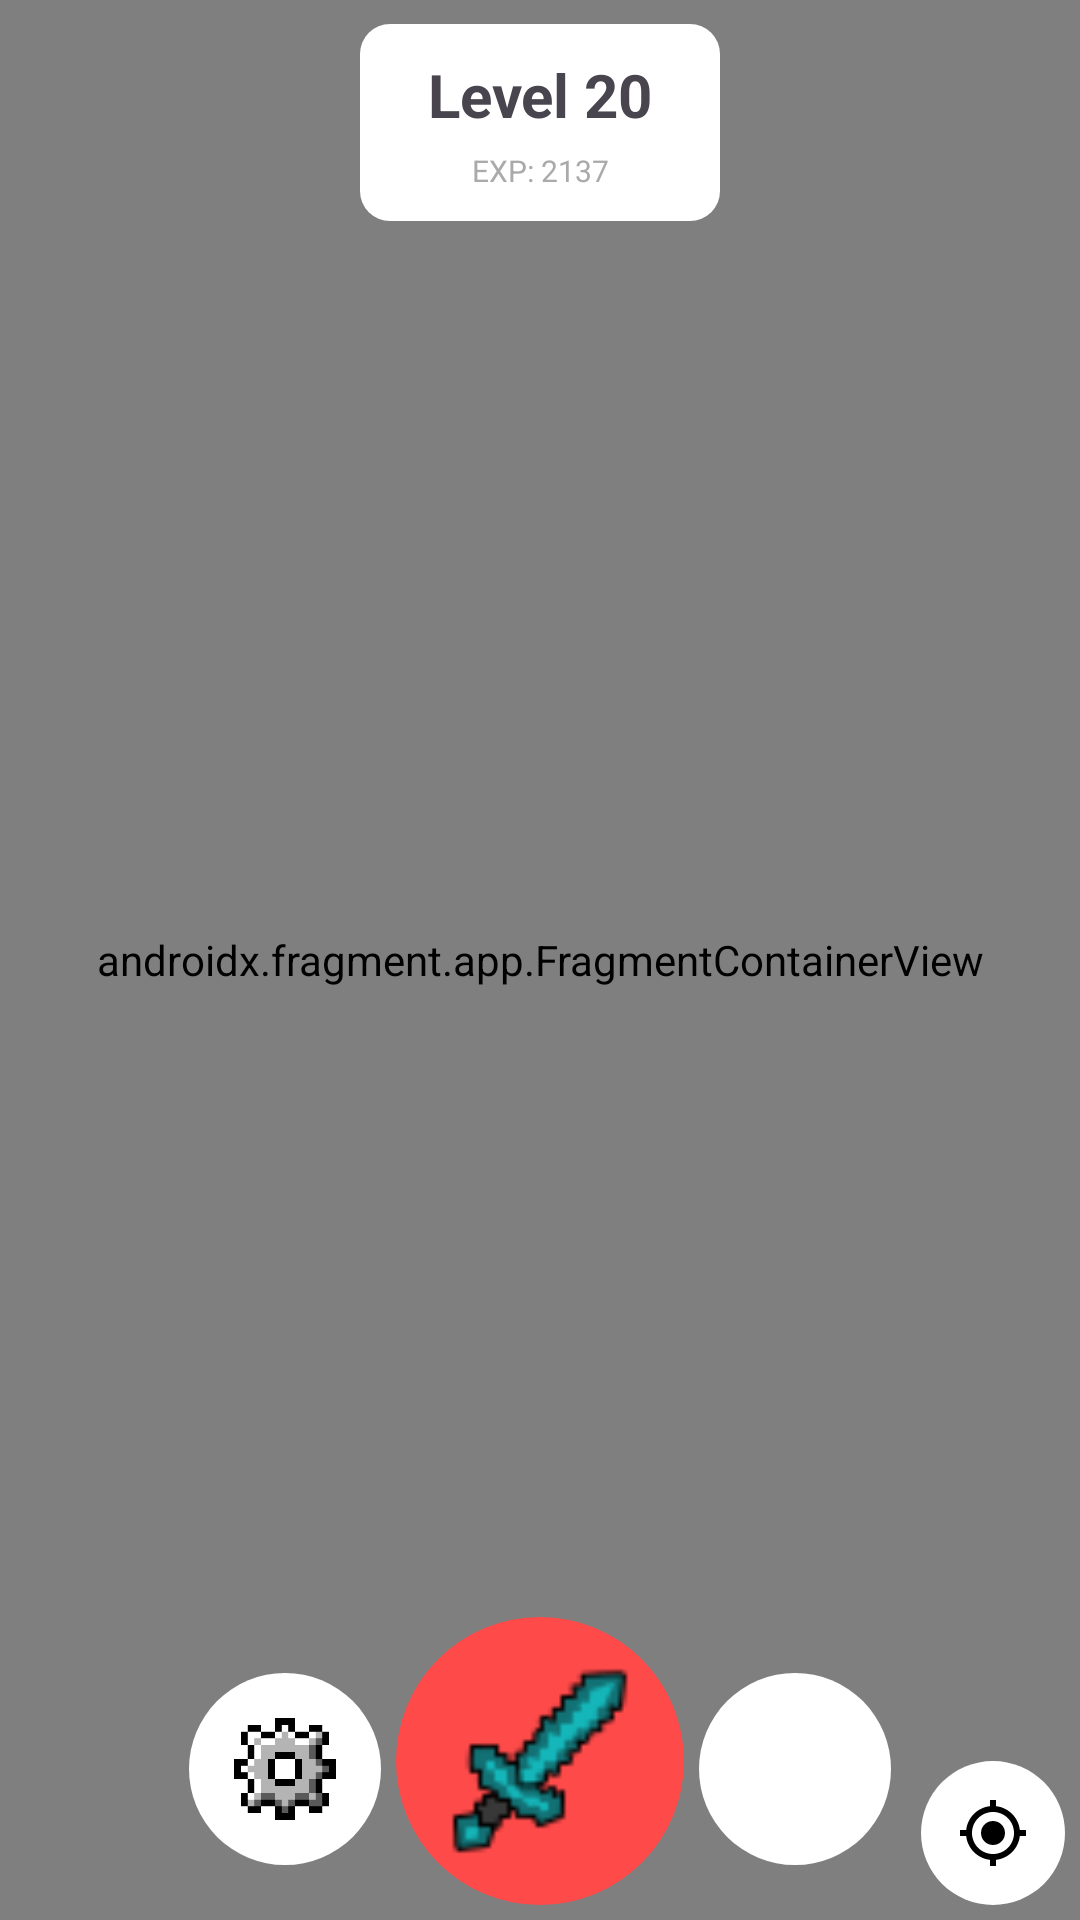

Where icons sit on this 1080*1920 app screen, as (x1, y1, x2, y2):
cog: (189, 1673, 381, 1865)
diamond sword: (396, 1617, 684, 1905)
location: (921, 1761, 1065, 1905)
